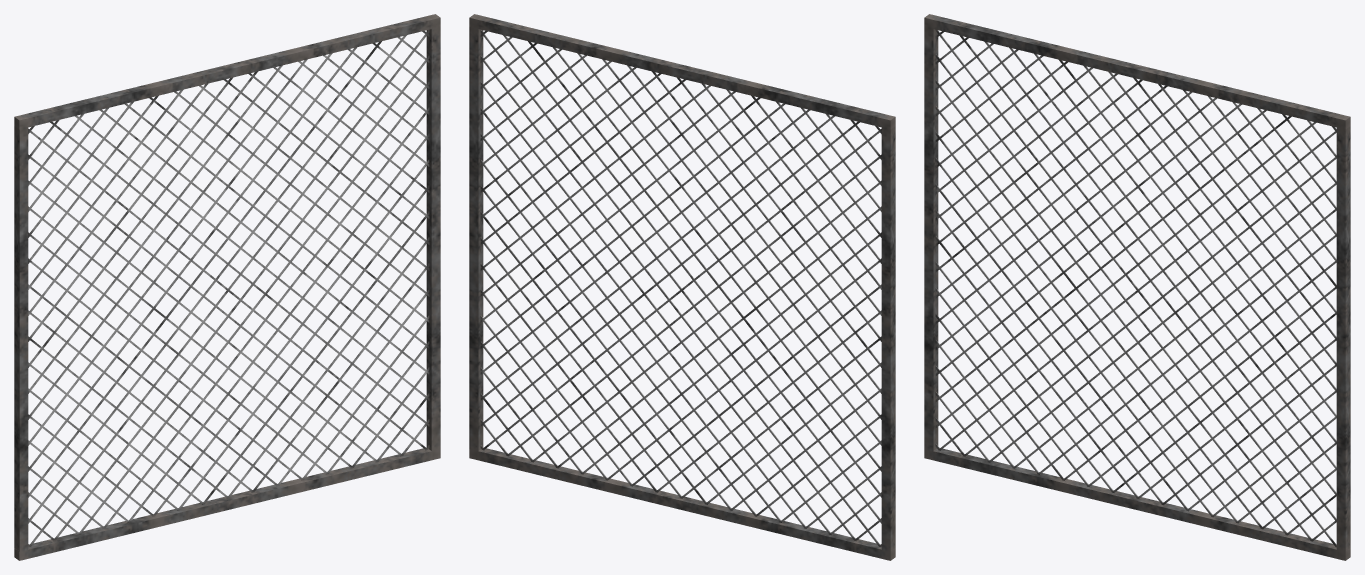
Rendered from iron_fence.obj.
3 renders of one model, left to right at view 1: azimuth 30°, elevation 25°; view 2: azimuth 150°, elevation 25°; view 3: azimuth 330°, elevation 25°, orthographic.
Parts seen in each view (by area): view 1: fence; view 2: fence; view 3: fence.
Part boxes in pixels (x1=…): fence: x1=14, y1=14, x2=440, y2=560; fence: x1=469, y1=14, x2=895, y2=560; fence: x1=924, y1=14, x2=1350, y2=560.
Size of the model in its own units: 3 by 3 by 0.0625.
1 material, 1 textured.
